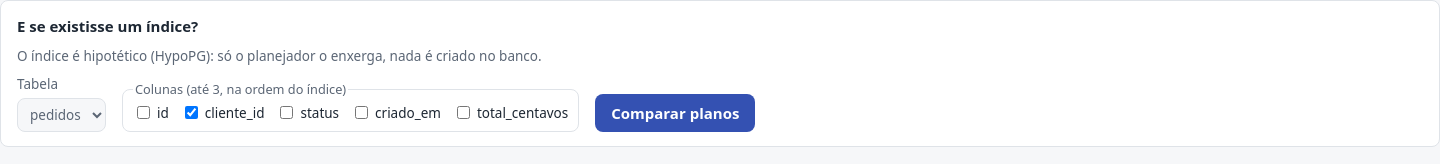
Test: índice hipotético na tela › no máximo 3 colunas: as outras ficam desabilitadas
The width and height of the screenshot is (1440, 164).
Click the checkbox labelled "id".
click(144, 113)  # box [137,106,150,119]
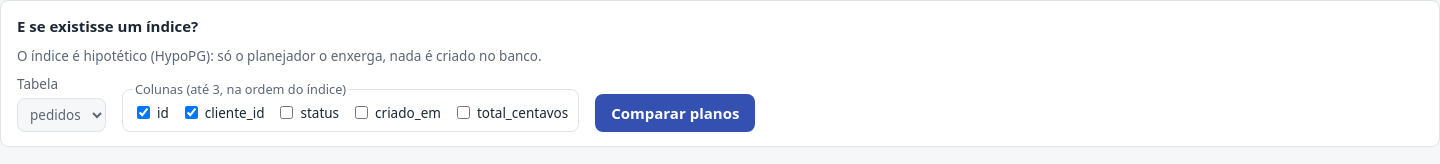
Click the checkbox labelled "status".
click(287, 113)  # box [280,106,294,119]
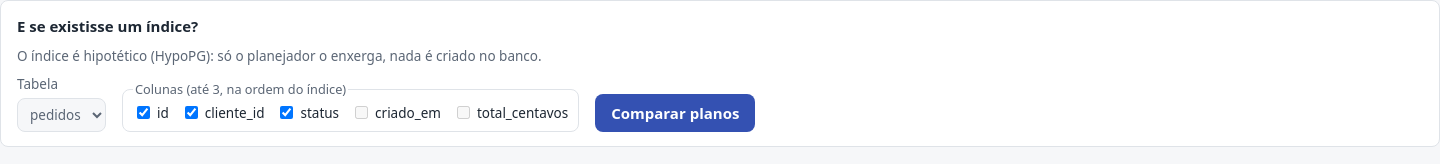
Expected: the checkbox labelled "criado_em" is disabled, [355,106,368,119]
